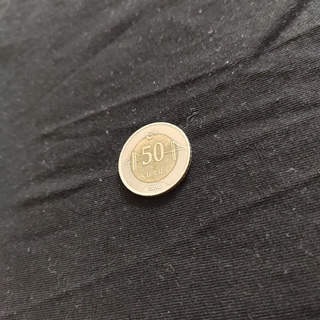50KURUS: (116, 120, 193, 198)
